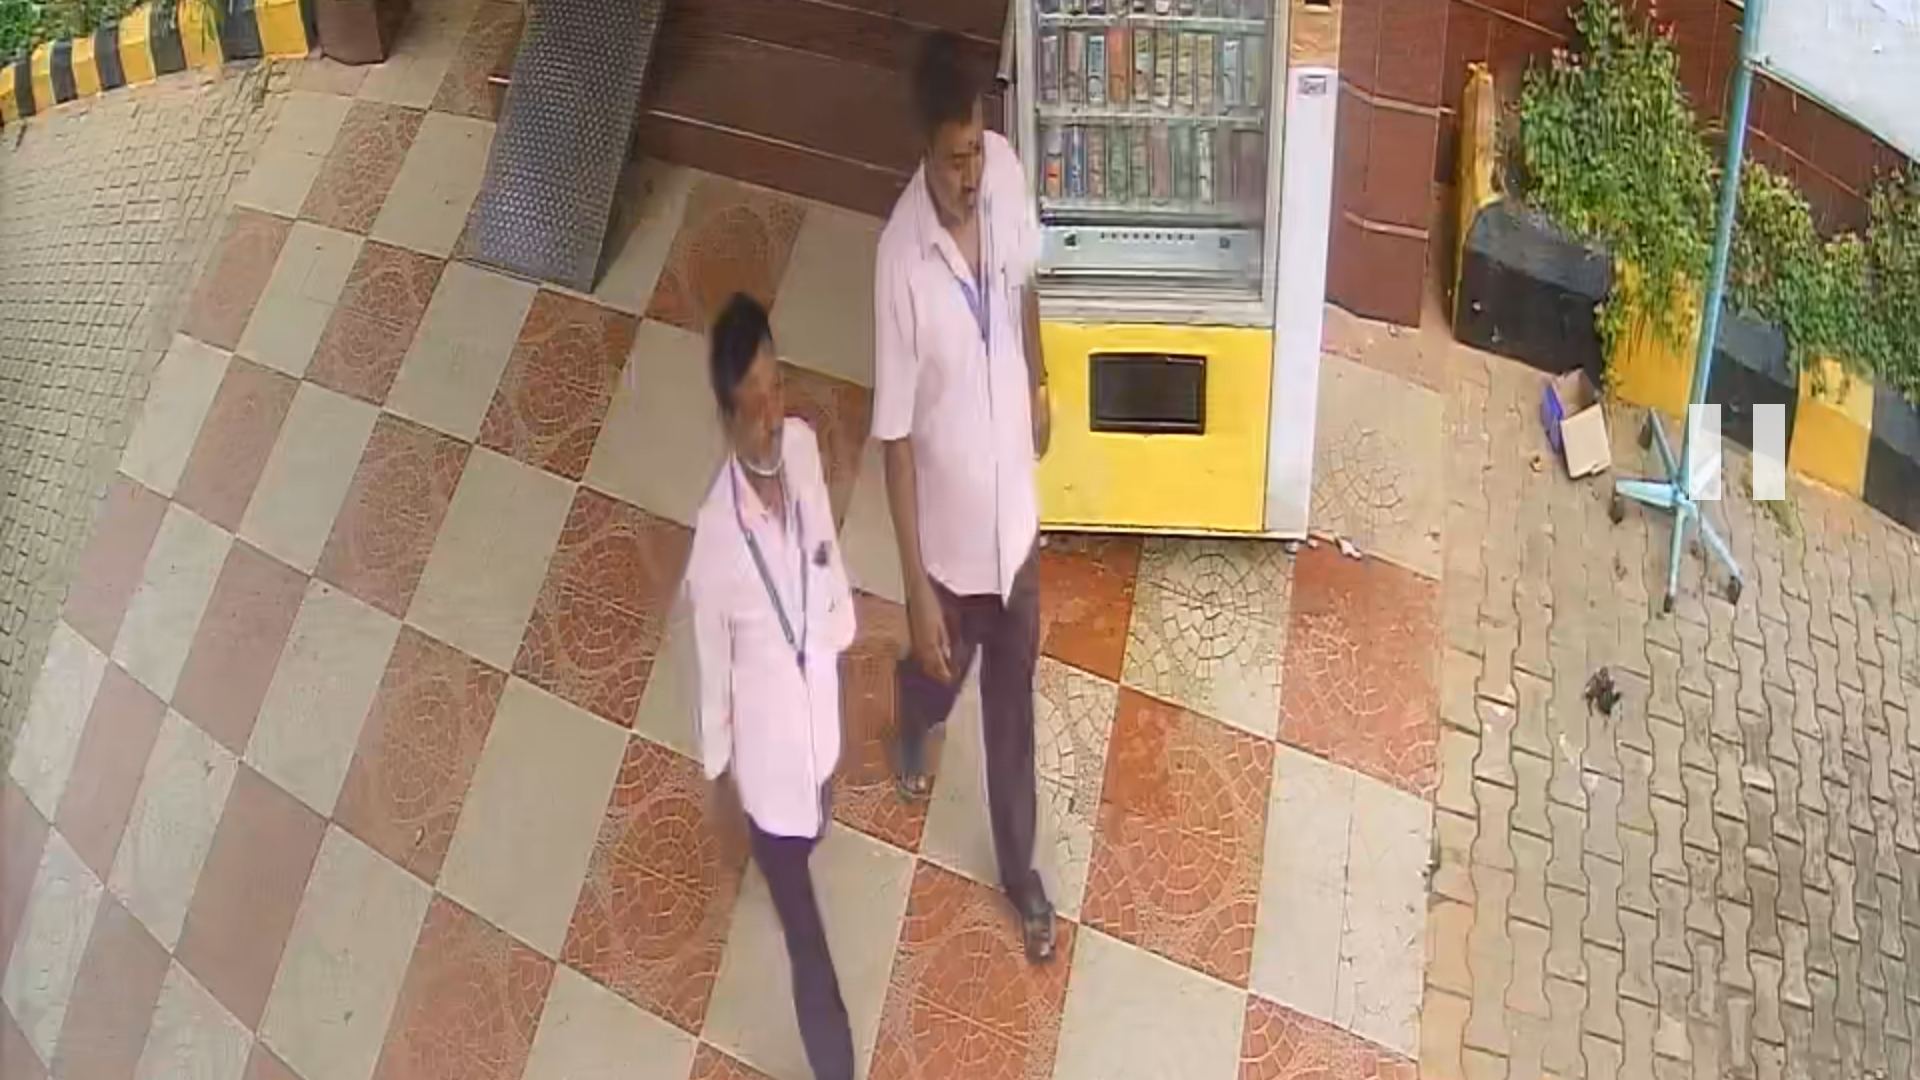not intruder: (885, 26, 1088, 998), (692, 316, 881, 1079)
